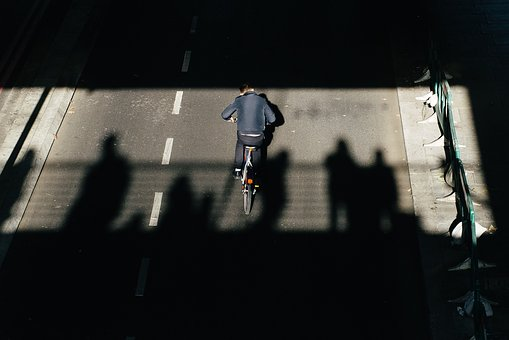bikerider: (222, 78, 295, 232)
